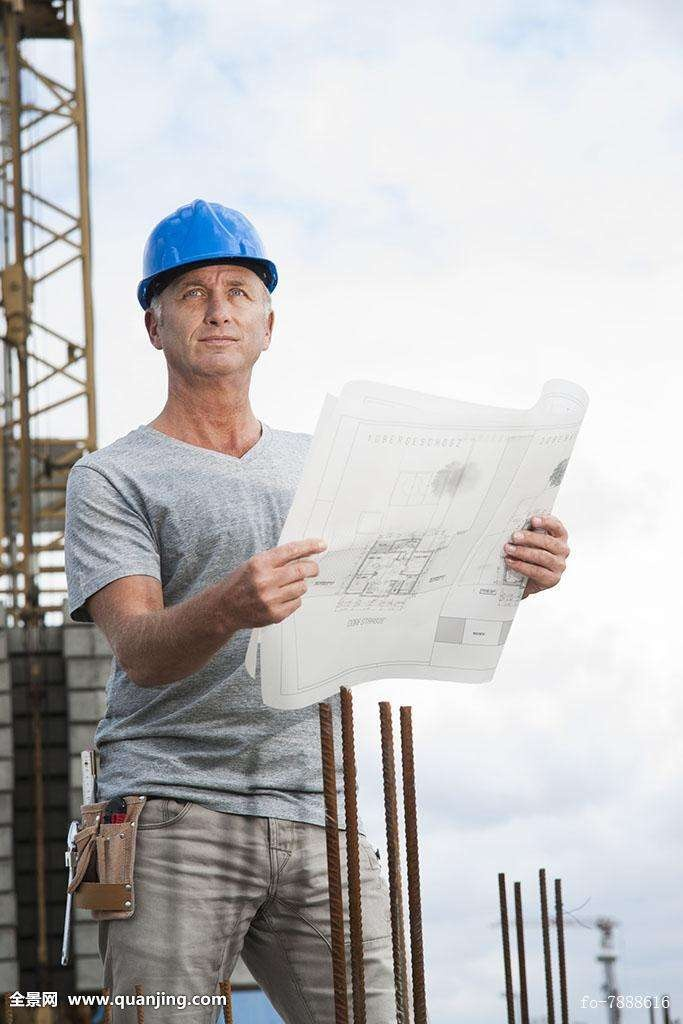blue: (137, 201, 282, 403)
